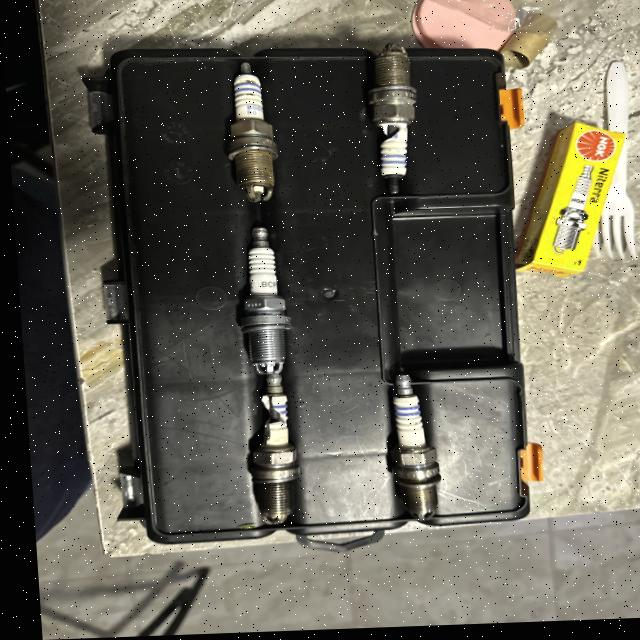damaged_spark-plug: (359, 41, 430, 203), (242, 374, 298, 534)
spark-plug: (232, 227, 298, 377), (225, 56, 283, 212), (383, 369, 438, 525)
